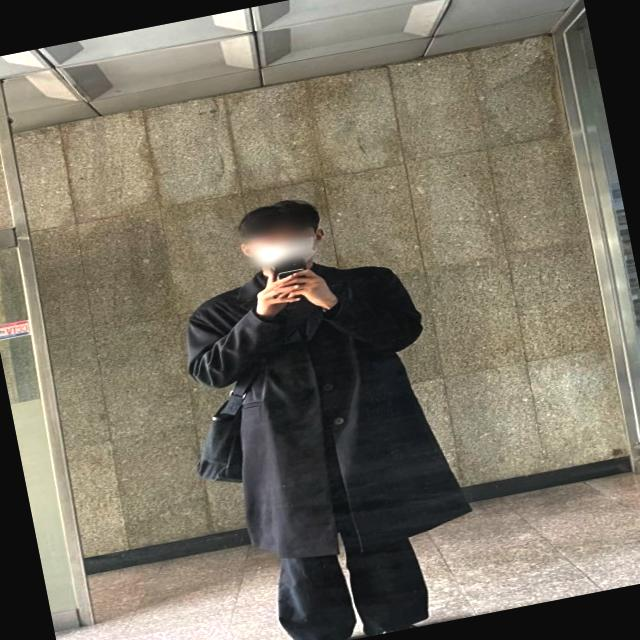coat: (174, 240, 478, 578)
slacks: (238, 397, 432, 640)
